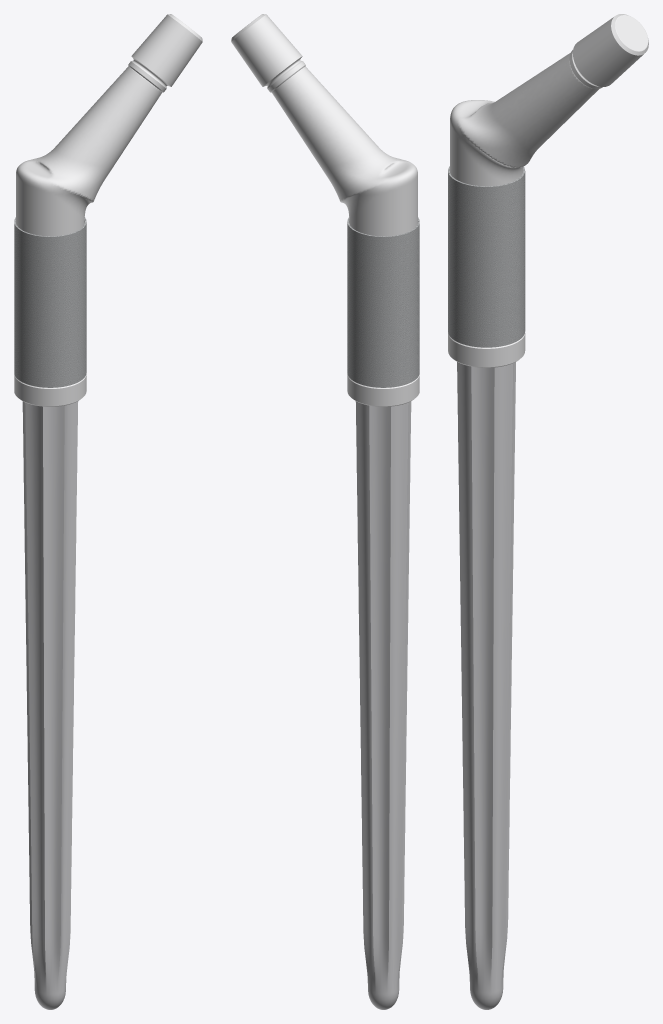
File: revistem_m_20x70_16x190_lod0.glb
The picture shows the model from 3 angles, left to right: view 1: azimuth 30°, elevation 25°; view 2: azimuth 150°, elevation 25°; view 3: azimuth 330°, elevation 25°; orthographic projection. The views are drawn at different scales.
Visible parts, largest first — view 1: revistem; view 2: revistem; view 3: revistem.
Part boxes in pixels (left/top/right/bottom): revistem: left=14, top=14, right=202, bottom=1009; revistem: left=231, top=14, right=419, bottom=1009; revistem: left=448, top=14, right=648, bottom=1009.
Size of the model in its own units: 0.0573 by 0.2934 by 0.0206.
Materials: 3 (1 with a texture image).
